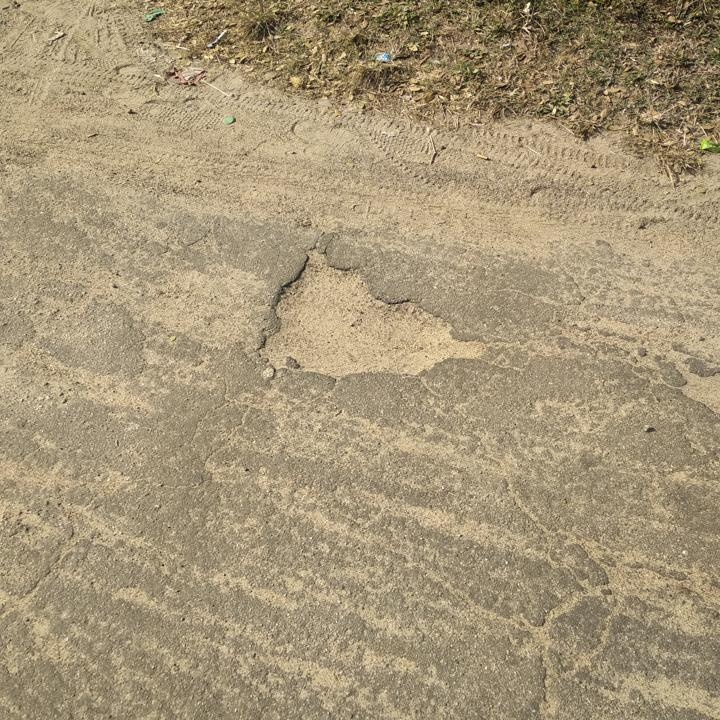pothole: (252, 239, 489, 384)
